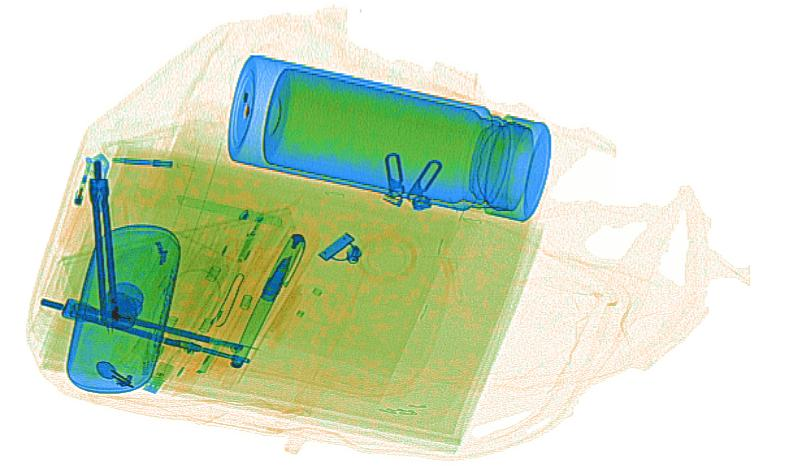knife: (175, 193, 284, 228)
lighter: (54, 151, 110, 253)
